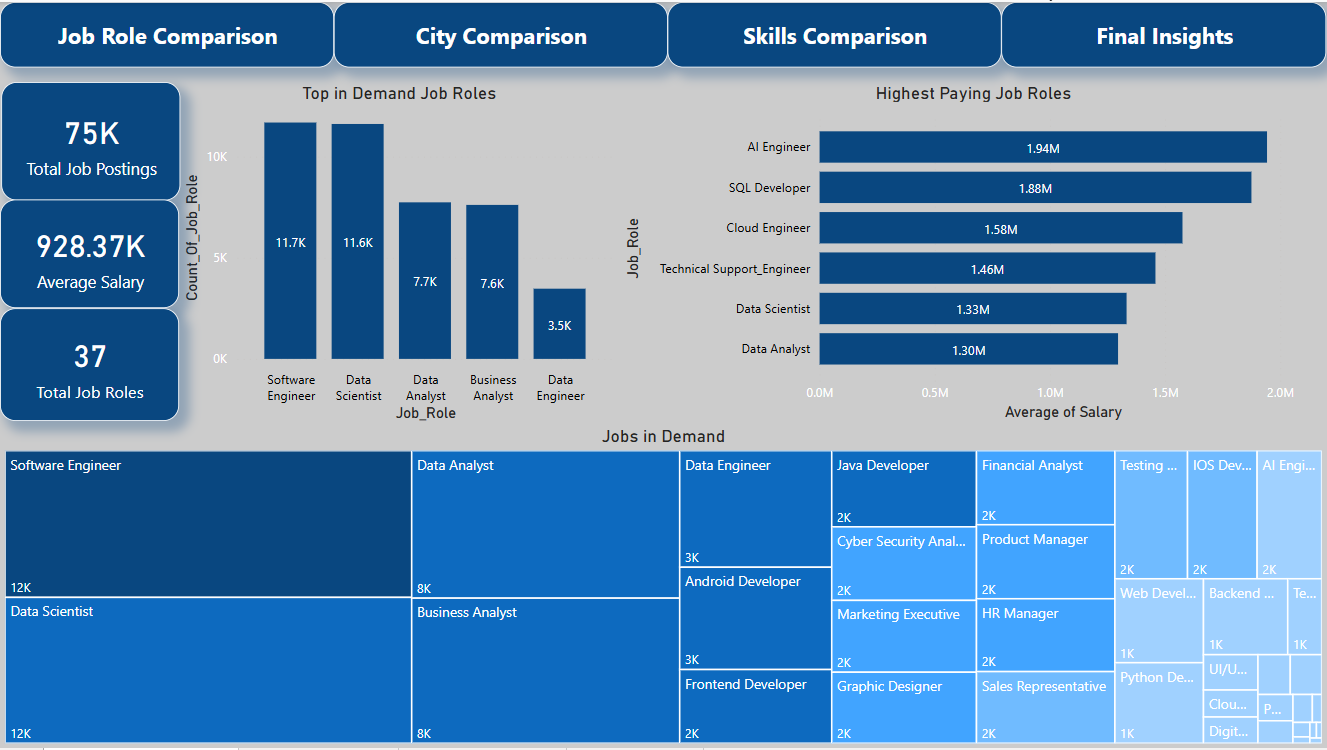

The dashboard page shown, as its layout file describes it:
{"tool":"powerbi","page":{"name":"Job Role Comparison","canvas":[1280,720],"ordinal":0},"visuals":[{"type":"treemap","title":"Jobs in Demand","fields":{"Group":["Main.Job_Role"],"Values":["Main.Count_Of_Job_Role"]},"box":[0,409,1280.6,311.6],"z":0},{"type":"actionButton","box":[0,0,322.2,63.1],"z":1000},{"type":"actionButton","box":[322.2,0,322.2,63.1],"z":2000},{"type":"actionButton","box":[644.4,0,322.2,63.1],"z":3000},{"type":"actionButton","box":[966.6,0,314,63.1],"z":4000},{"type":"columnChart","title":"Top in Demand Job Roles","fields":{"Category":["Main.Job_Role"],"Y":["Main.Count_Of_Job_Role"]},"box":[172.9,76.9,425.5,332.1],"z":5000},{"type":"clusteredBarChart","title":"Highest Paying Job Roles","fields":{"Category":["Main.Job_Role"],"Y":["Avg(Main.Salary)"]},"box":[598.4,76.9,682.1,332.1],"z":6000},{"type":"card","title":"Software Engineer","fields":{"Values":["Main.Count_Of_Job_Role"]},"box":[1.2,77.2,172.5,114.6],"z":7000},{"type":"card","title":"Software Engineer","fields":{"Values":["Avg(Main.Salary)"]},"box":[0,190,172.5,105],"z":8000},{"type":"card","title":"Software Engineer","fields":{"Values":["Count(Main.Job_Role)"]},"box":[0,295,172.5,108.8],"z":9000}]}

Visuals, with their boxes in screenshot pixels (x1, y1, x2, y2), scaled from the page's 1280x720 canvas onto the 1327x750 screenshot:
"Jobs in Demand" treemap: bbox=[0, 426, 1326, 749]
actionButton: bbox=[0, 0, 334, 66]
actionButton: bbox=[334, 0, 668, 66]
actionButton: bbox=[668, 0, 1002, 66]
actionButton: bbox=[1002, 0, 1326, 66]
"Top in Demand Job Roles" columnChart: bbox=[179, 80, 620, 426]
"Highest Paying Job Roles" clusteredBarChart: bbox=[620, 80, 1326, 426]
"Software Engineer" card: bbox=[1, 80, 180, 200]
"Software Engineer" card: bbox=[0, 198, 179, 307]
"Software Engineer" card: bbox=[0, 307, 179, 421]
